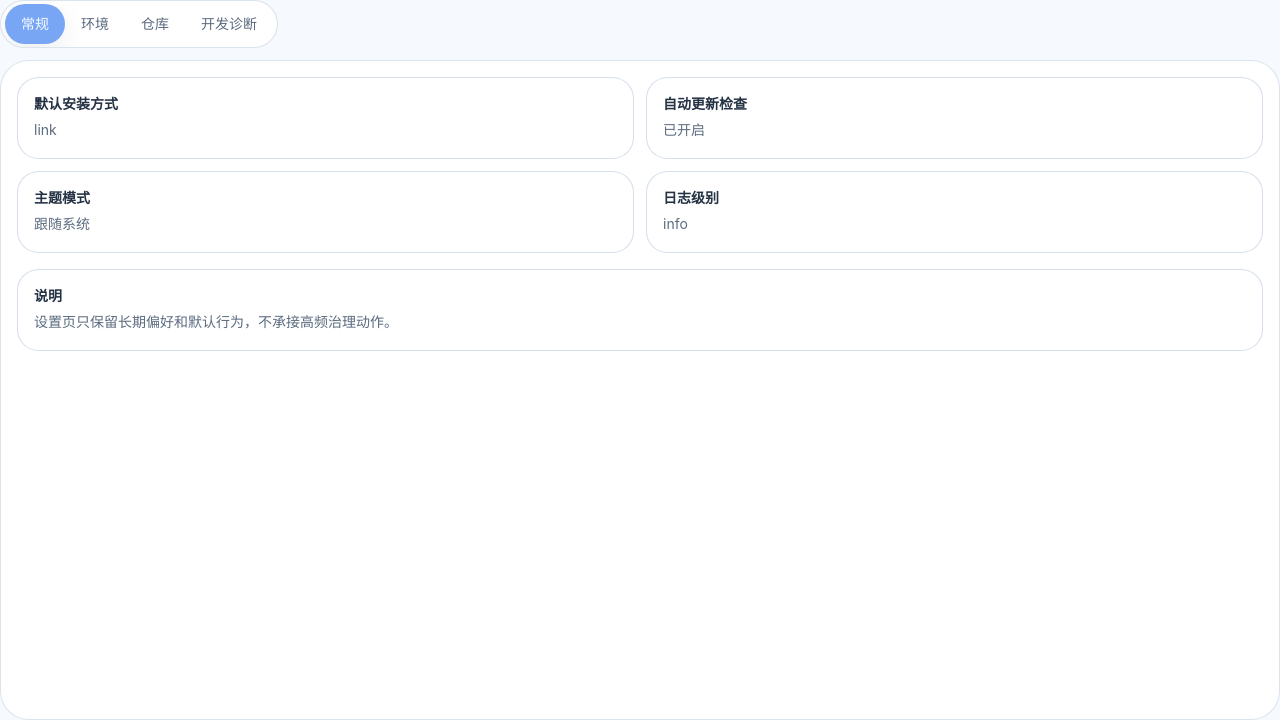
Test case: SettingsPage › 点击修复仓库后会刷新仓库状态并写入成功 toast
This screenshot has width=1280, height=720.
Click the tab "仓库".
click(155, 24)  # box left=125, top=4, right=185, bottom=44
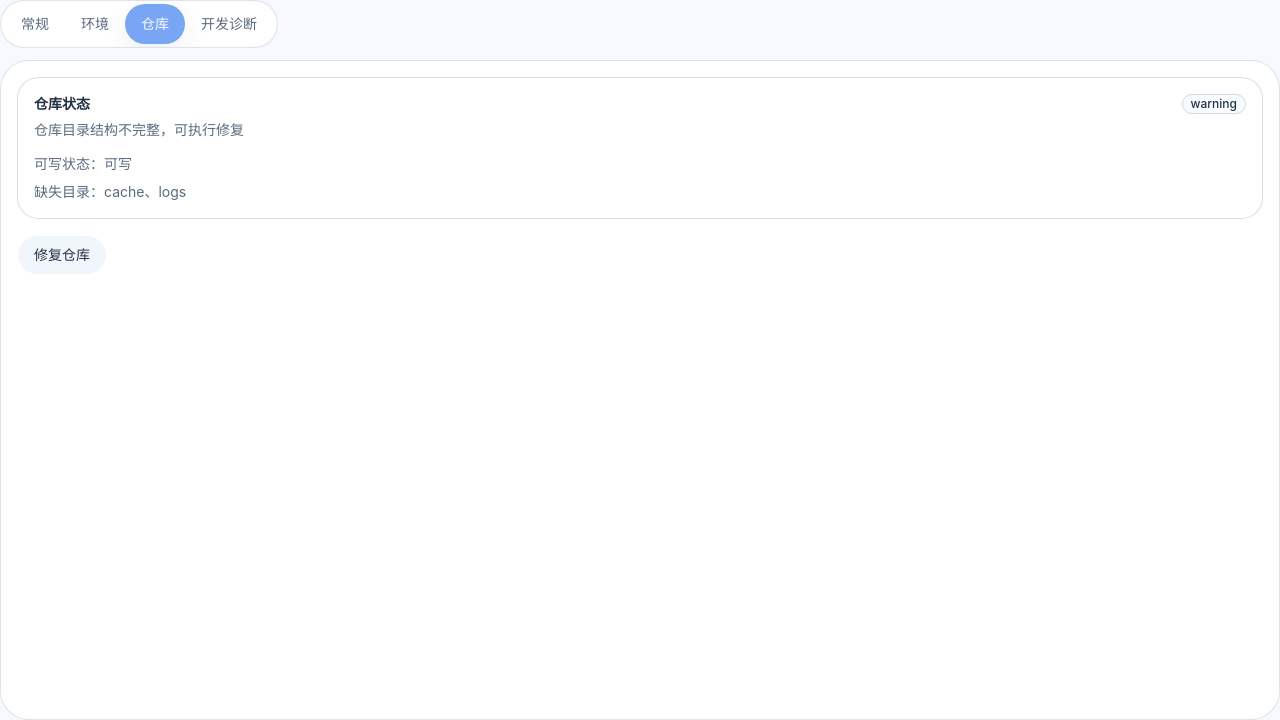
Check: the text "仓库状态" is shown, box left=34, top=95, right=90, bottom=112
Check: the text "warning" is shown, box left=1182, top=94, right=1246, bottom=114
Check: the text "可写状态：可写" is shown, box left=34, top=155, right=132, bottom=172
Click the button "修复仓库".
click(62, 255)  # box left=17, top=235, right=107, bottom=275
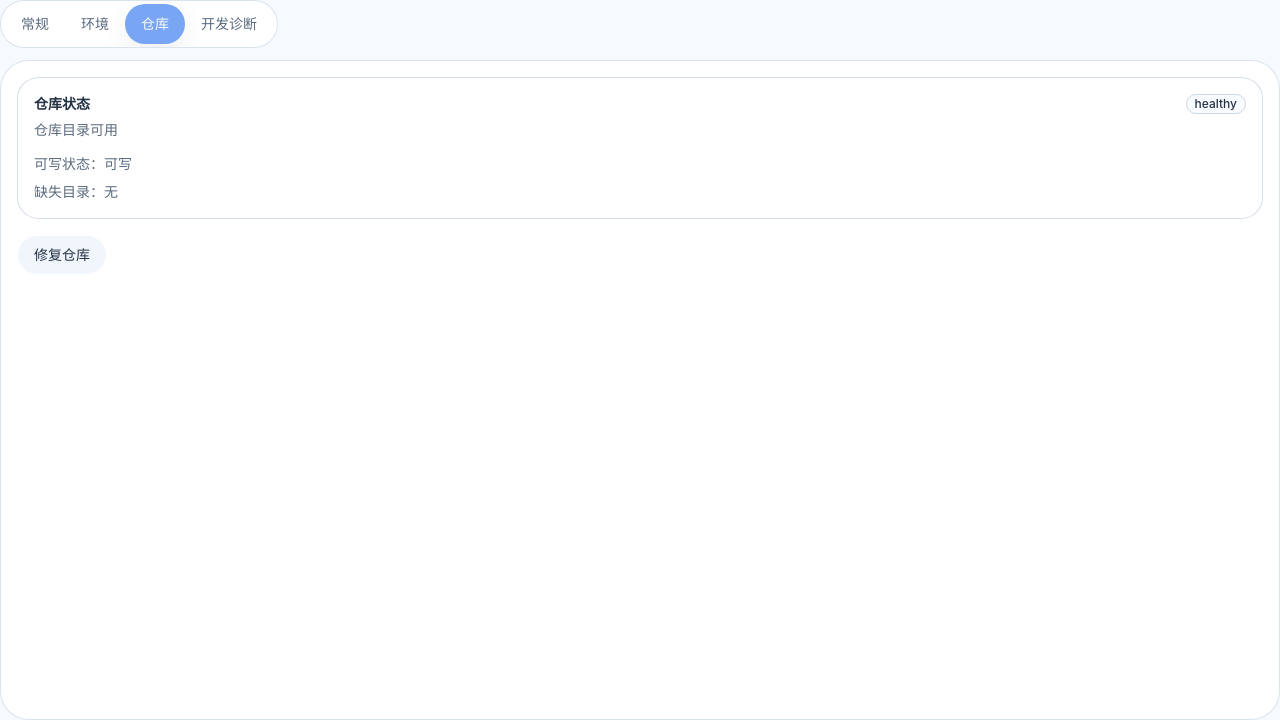
Check: the text "warning" reads "healthy", box left=1195, top=96, right=1237, bottom=111
